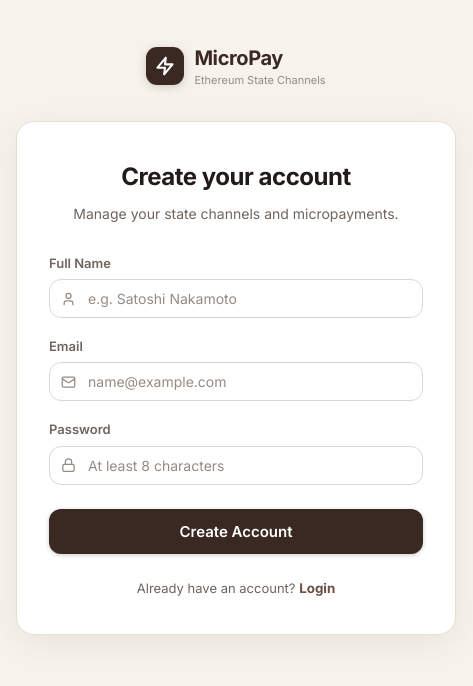
Test case: Auth Pages › SignUpPage validates valid email format
Type "Vitalik Buterin" into the field labelled "Full Name" at (236, 299), box [49,279,423,318]
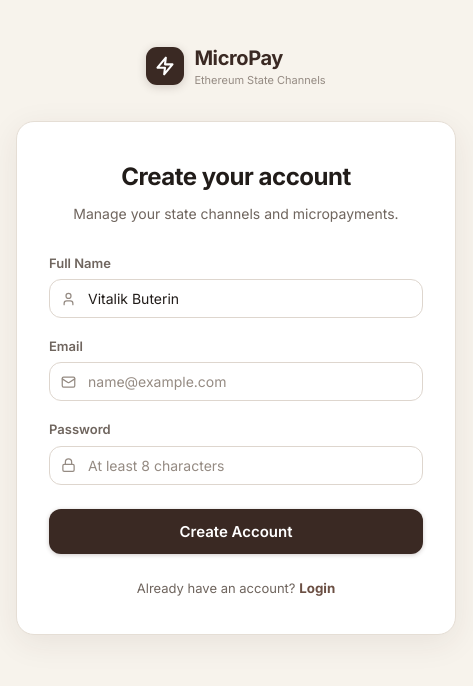
Type "notanemail" into the field labelled "Email" at (236, 382), box [49,362,423,402]
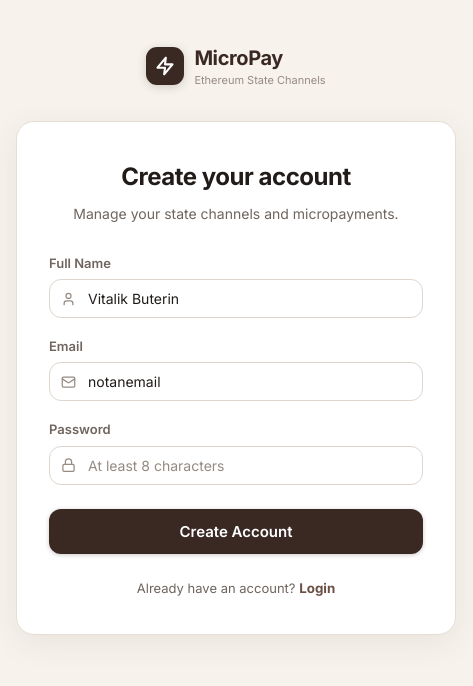
Submit the text "Create Account", box [49,253,423,554]
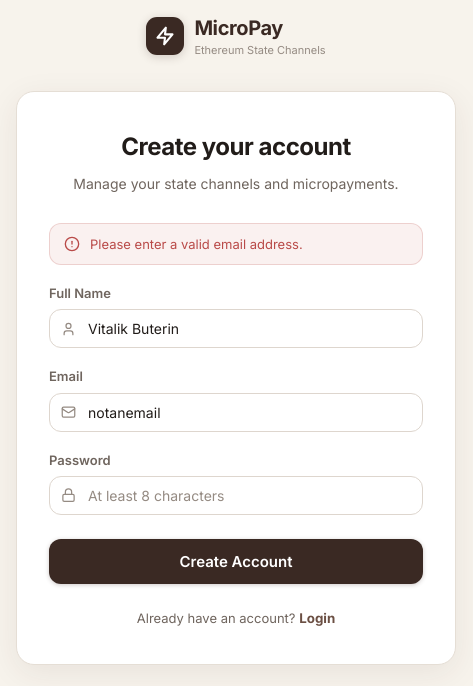
expect the text "Please enter a valid email address." is shown: met, box [90,234,303,254]
